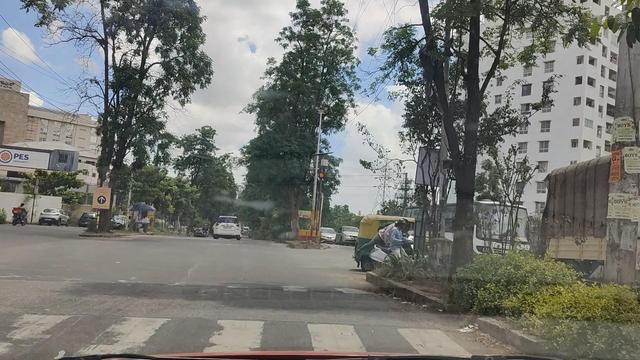SpeedBump: (0, 278, 467, 351)
